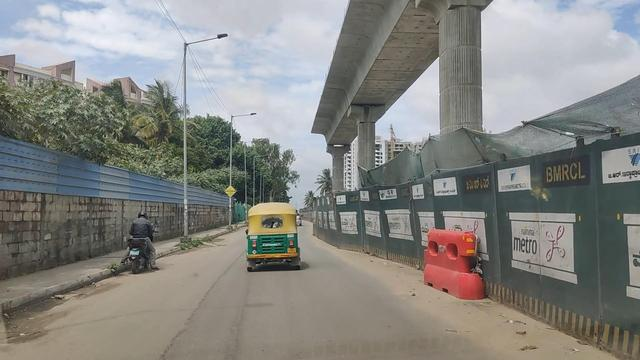LMV: (242, 197, 302, 282), (121, 205, 158, 274)
